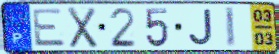2: (108, 7, 137, 48)
5: (145, 7, 170, 48)
E: (31, 7, 68, 48)
I: (223, 6, 237, 49)
J: (187, 8, 215, 47)
X: (66, 5, 99, 49)
